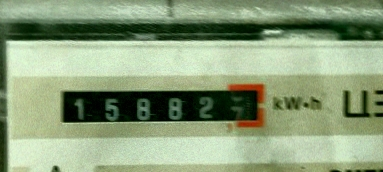1: (72, 96, 86, 121)
2: (198, 93, 214, 119)
5: (103, 96, 119, 121)
7: (229, 103, 243, 119)
8: (134, 96, 151, 120), (166, 94, 182, 119)
screen: (48, 76, 274, 136)
